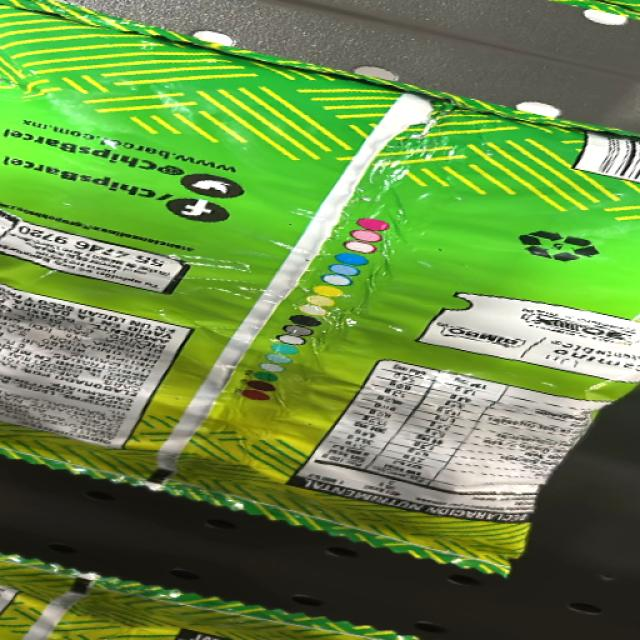productoAtras: (13, 14, 603, 562)
